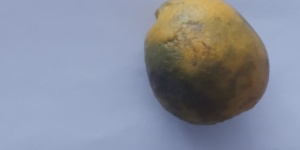BAD: (144, 1, 270, 128)
